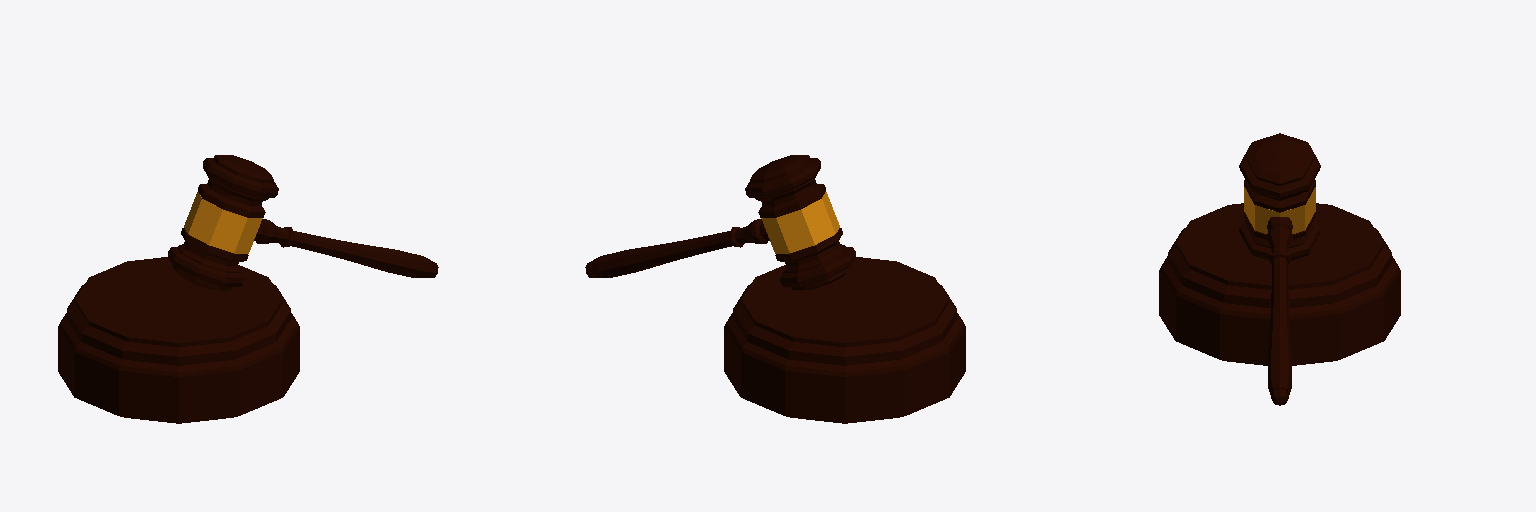
The model's file is gavel.obj.
3 renders of one model, left to right at view 1: azimuth 30°, elevation 25°; view 2: azimuth 150°, elevation 25°; view 3: azimuth 270°, elevation 25°, orthographic.
Size of the model in its own units: 25.12 by 13.66 by 14.46.